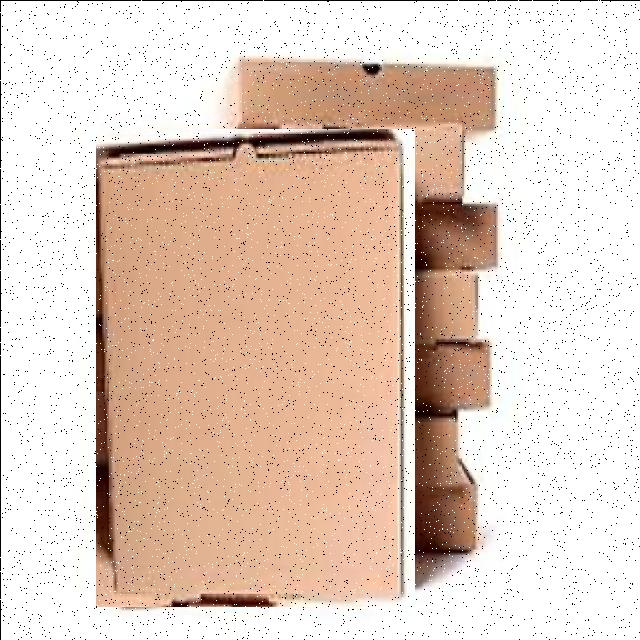normal: (95, 128, 414, 606)
